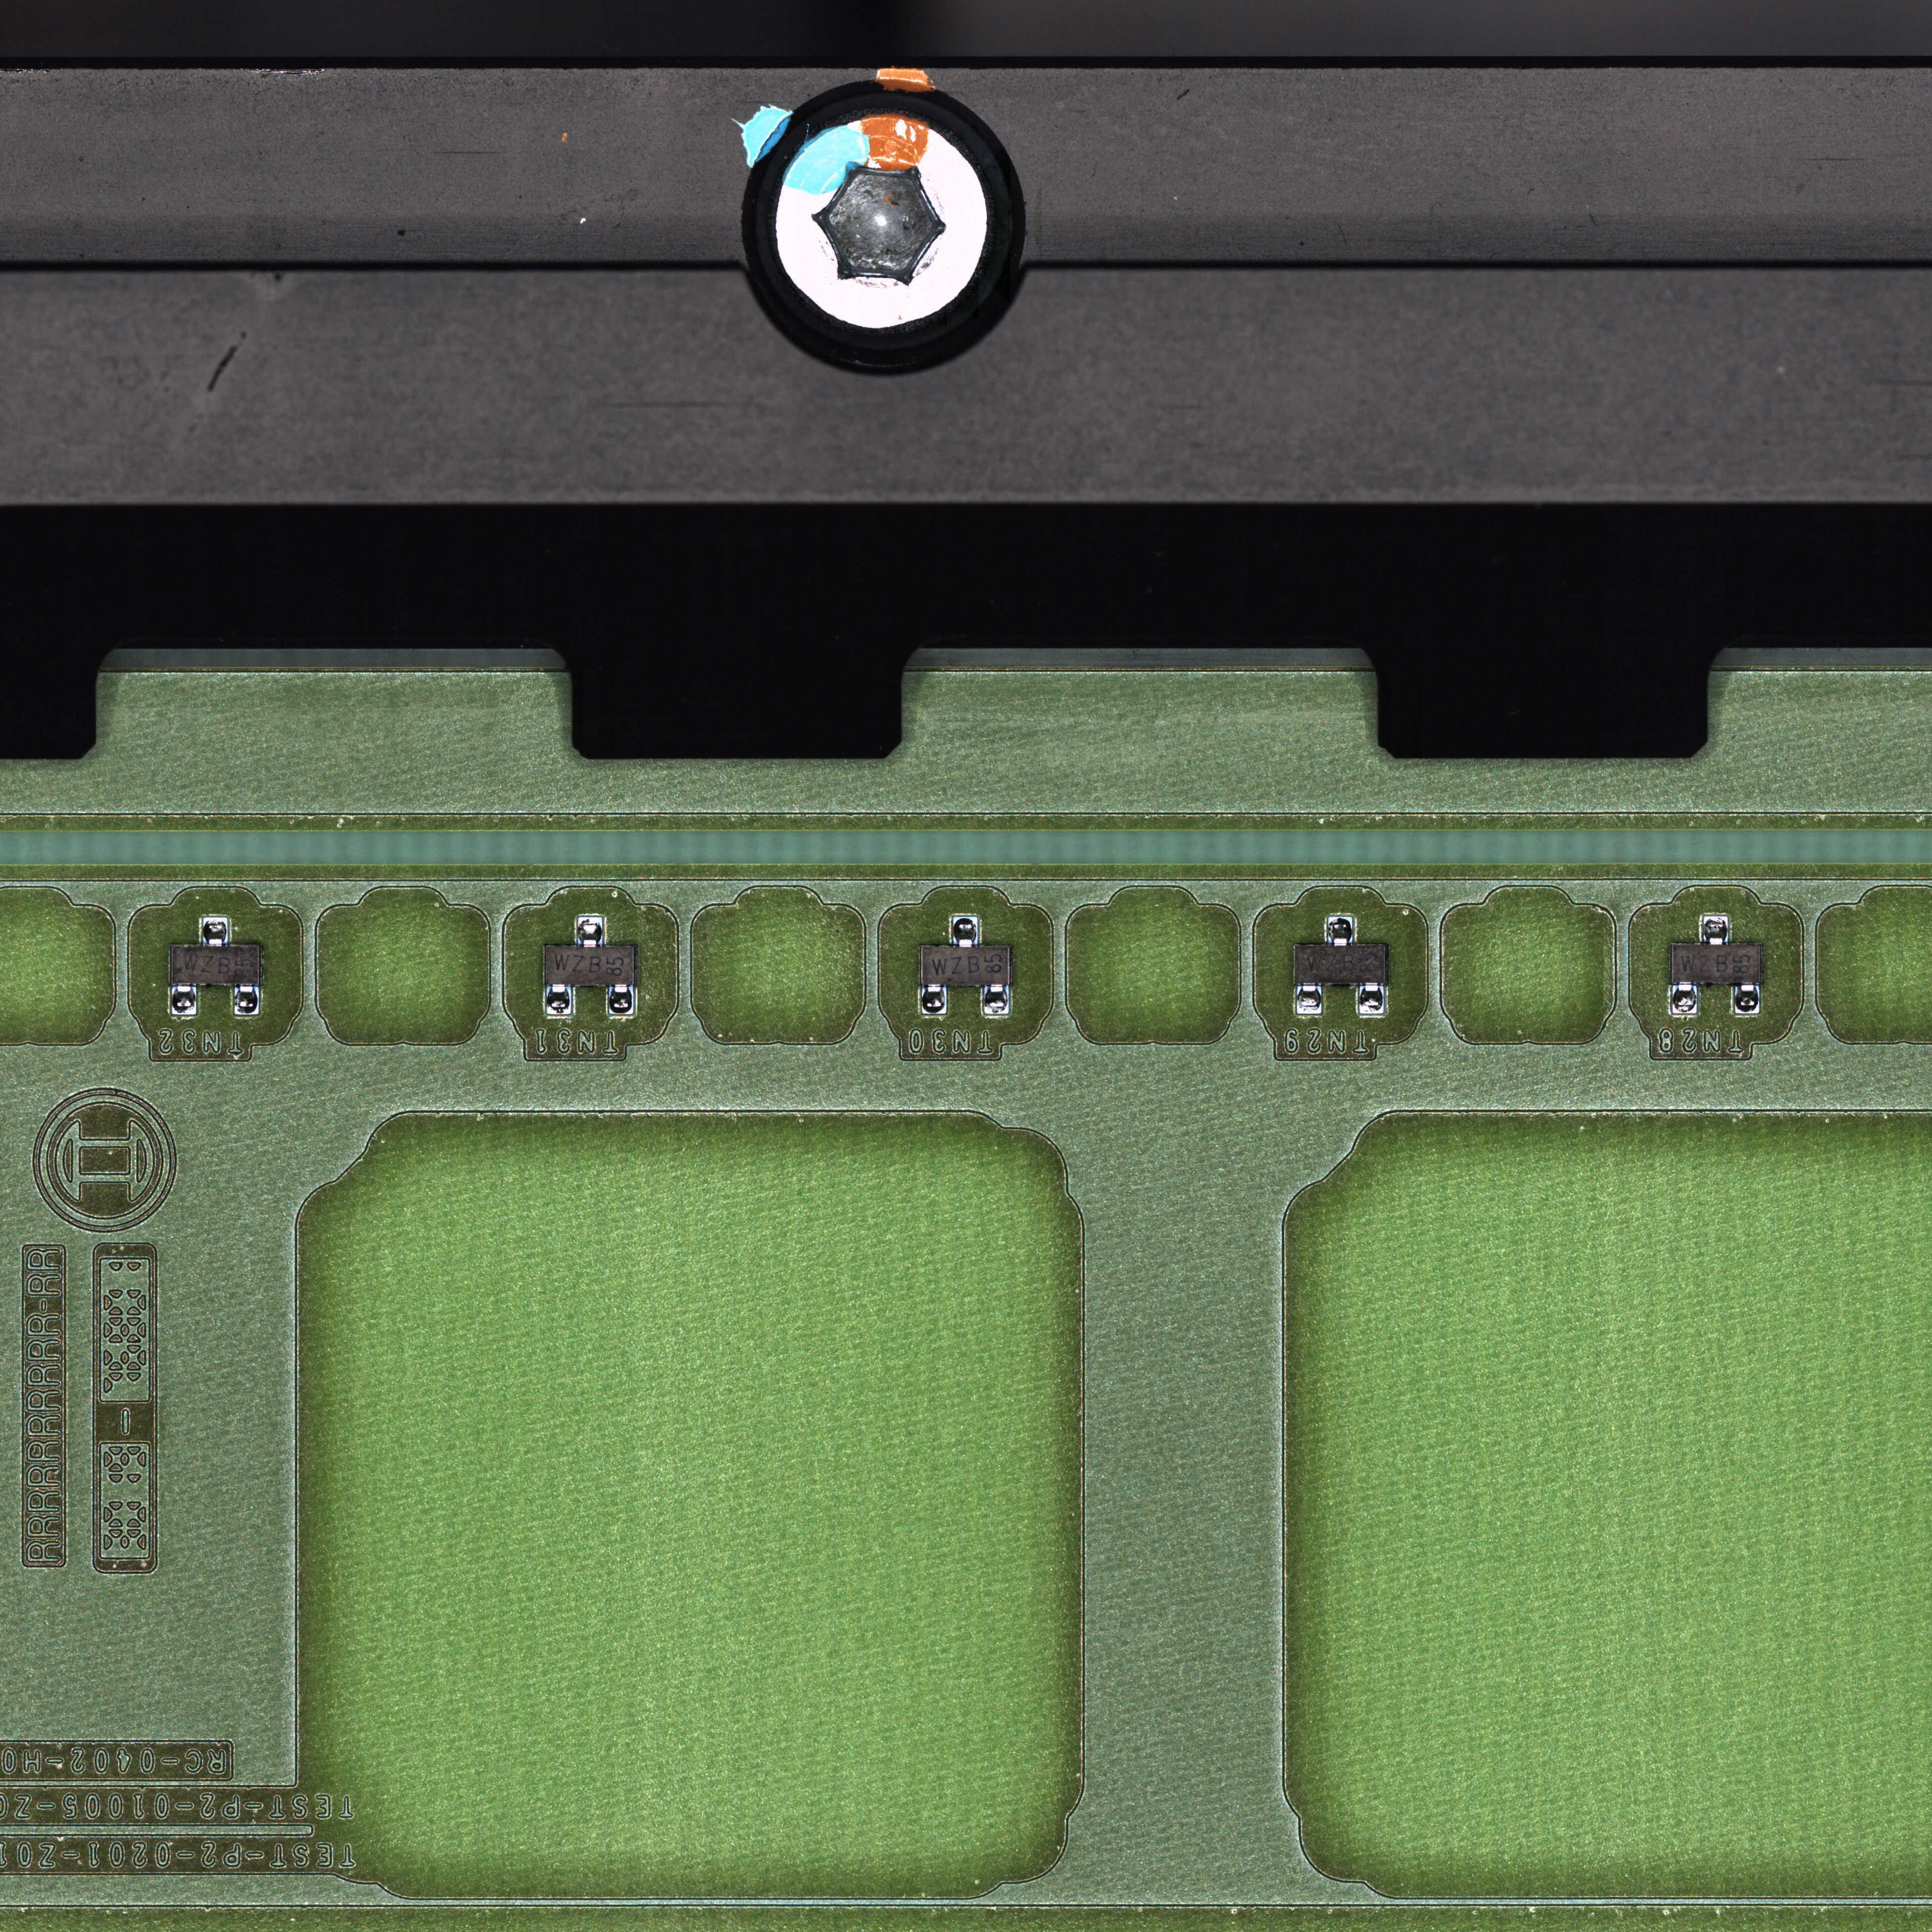Package: (172, 945, 262, 985), (1295, 945, 1387, 984), (545, 947, 635, 985), (922, 947, 1012, 985), (1672, 945, 1760, 984)
Solder: (545, 984, 571, 1016), (1327, 915, 1353, 947), (577, 915, 603, 947), (1670, 984, 1697, 1014), (1702, 915, 1729, 945), (172, 984, 196, 1016), (982, 985, 1008, 1014), (607, 985, 633, 1014), (202, 916, 228, 945), (1297, 984, 1322, 1014), (1734, 984, 1759, 1014), (1359, 984, 1384, 1014), (234, 985, 258, 1016), (1704, 915, 1729, 945), (954, 915, 977, 947), (609, 985, 633, 1014), (922, 985, 945, 1014)
